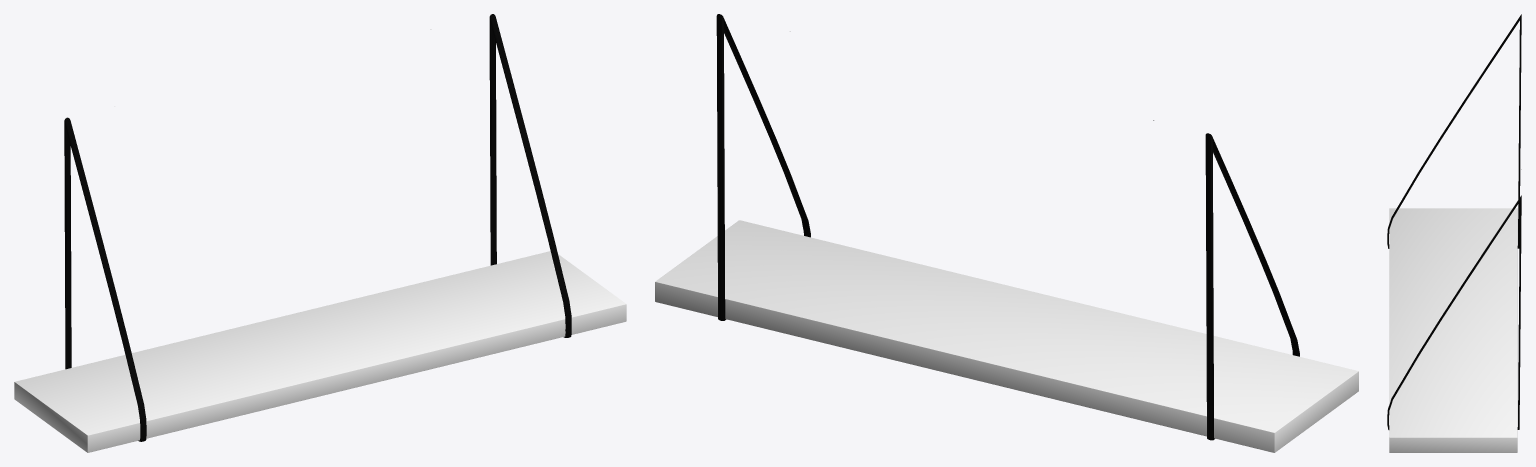
Rendered from Shelf.fbx.
3 views of the same model, side by side, from view 1: azimuth 30°, elevation 25°; view 2: azimuth 150°, elevation 25°; view 3: azimuth 270°, elevation 25° (orthographic). The views are drawn at different scales.
Visible parts, largest first — view 1: Shelf; view 2: Shelf; view 3: Shelf.
Boxes of the visible parts, <box> form: Shelf: <box>14,14,626,452</box>; Shelf: <box>655,14,1358,452</box>; Shelf: <box>1387,14,1521,452</box>.
Bounding box in the file's own units: 25.02 × 11.92 × 6.19.
